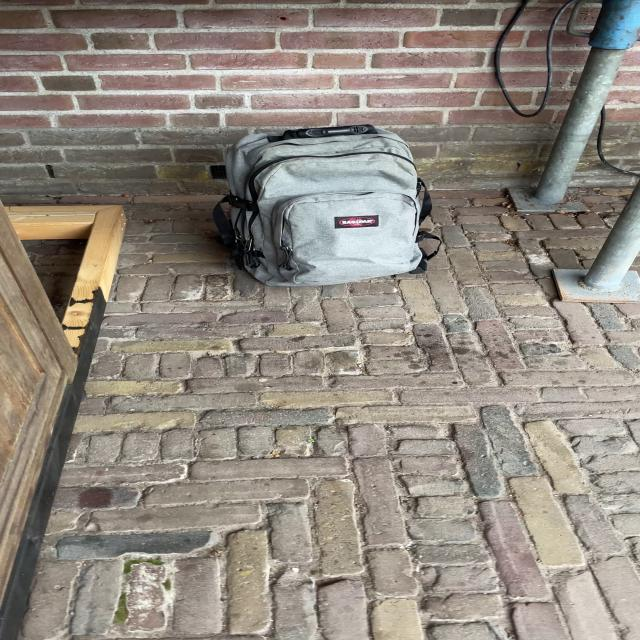backpack: (202, 116, 442, 291)
